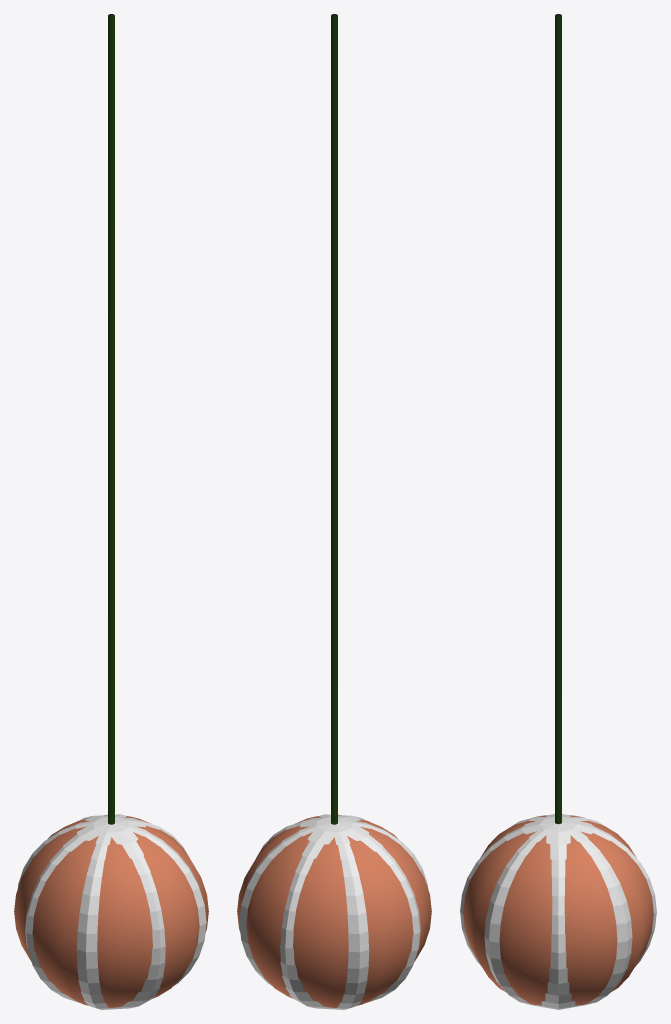
Rendered from WreckingBall.glb.
The picture shows the model from 3 angles, left to right: view 1: azimuth 30°, elevation 25°; view 2: azimuth 150°, elevation 25°; view 3: azimuth 270°, elevation 25°; orthographic projection.
Visible parts, largest first — view 1: WreckingBall, sphere_0; view 2: WreckingBall, sphere_0; view 3: WreckingBall, sphere_0.
Boxes of the visible parts, bbox=[...] form: WreckingBall: bbox=[14, 14, 208, 1008]; sphere_0: bbox=[17, 814, 206, 1009]; WreckingBall: bbox=[237, 14, 431, 1008]; sphere_0: bbox=[239, 814, 428, 1009]; WreckingBall: bbox=[463, 14, 653, 1005]; sphere_0: bbox=[460, 814, 656, 1009].
Size of the model in its own units: 4.05 by 22.35 by 4.05.
1 material, 1 textured.
